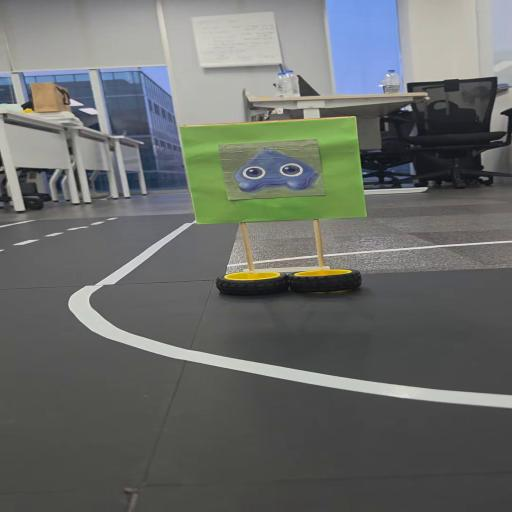Sign_B: (170, 116, 374, 304)
